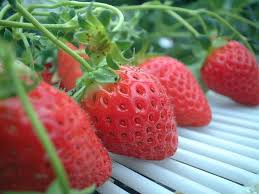strawberry: (1, 79, 115, 193), (73, 62, 182, 164), (138, 54, 214, 130), (200, 40, 259, 107)
